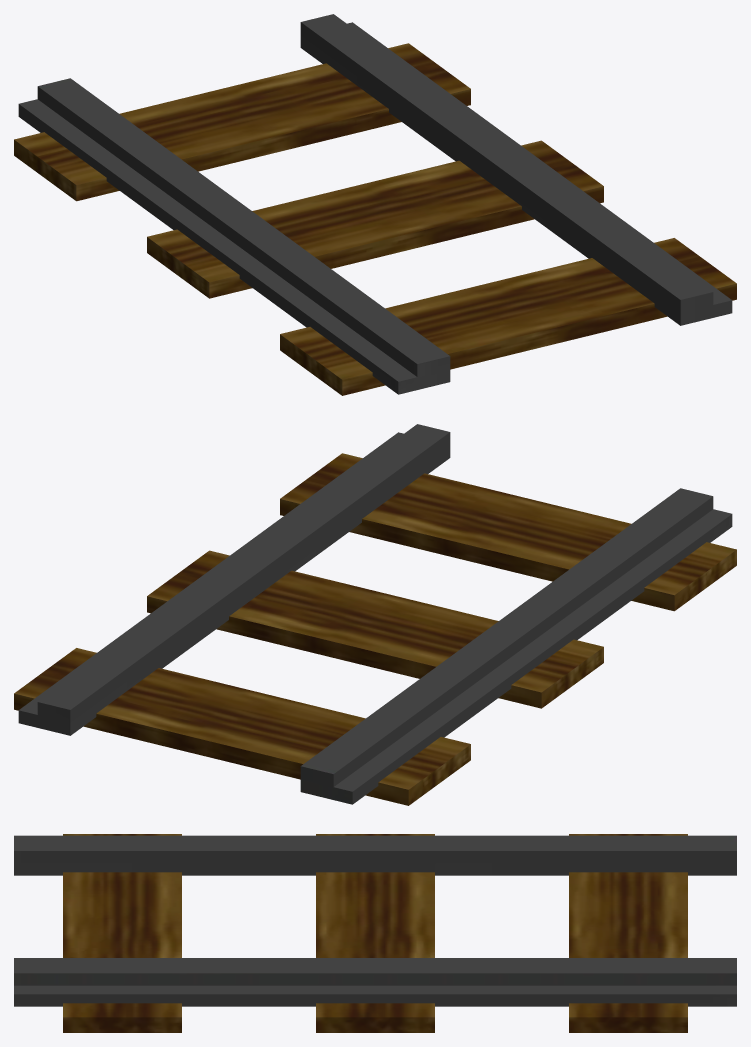
File: MinecartTrackStraight.glb
3 views of the same model, one above another, from view 1: azimuth 30°, elevation 25°; view 2: azimuth 150°, elevation 25°; view 3: azimuth 270°, elevation 25° (orthographic). The views are drawn at different scales.
Visible parts, largest first — view 1: MinecartTrackStraight_joined.002; view 2: MinecartTrackStraight_joined.002; view 3: MinecartTrackStraight_joined.002.
Boxes of the visible parts, x1,y1,x2,y2 form: MinecartTrackStraight_joined.002: (14,14,736,395); MinecartTrackStraight_joined.002: (14,424,736,805); MinecartTrackStraight_joined.002: (14,834,736,1032).
Size of the model in its own units: 0.6 by 0.056 by 1.
Materials: 1 (1 with a texture image).
